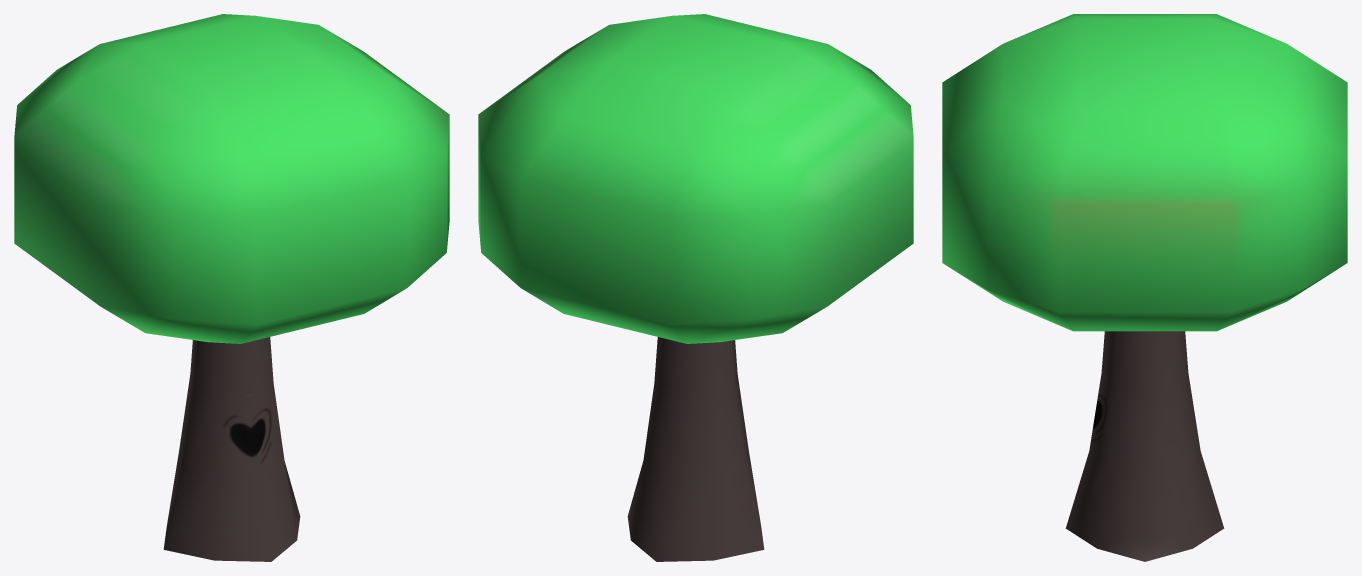
The model's file is Tree.fbx.
The picture shows the model from 3 angles, left to right: view 1: azimuth 30°, elevation 25°; view 2: azimuth 150°, elevation 25°; view 3: azimuth 270°, elevation 25°; orthographic projection.
Parts seen in each view (by area): view 1: Tree; view 2: Tree; view 3: Tree.
Part boxes in pixels (x1=…): Tree: x1=14, y1=14, x2=449, y2=561; Tree: x1=478, y1=14, x2=913, y2=561; Tree: x1=942, y1=14, x2=1347, y2=561.
Bounding box in the file's own units: 841 × 1104 × 841.
1 material, 1 textured.
